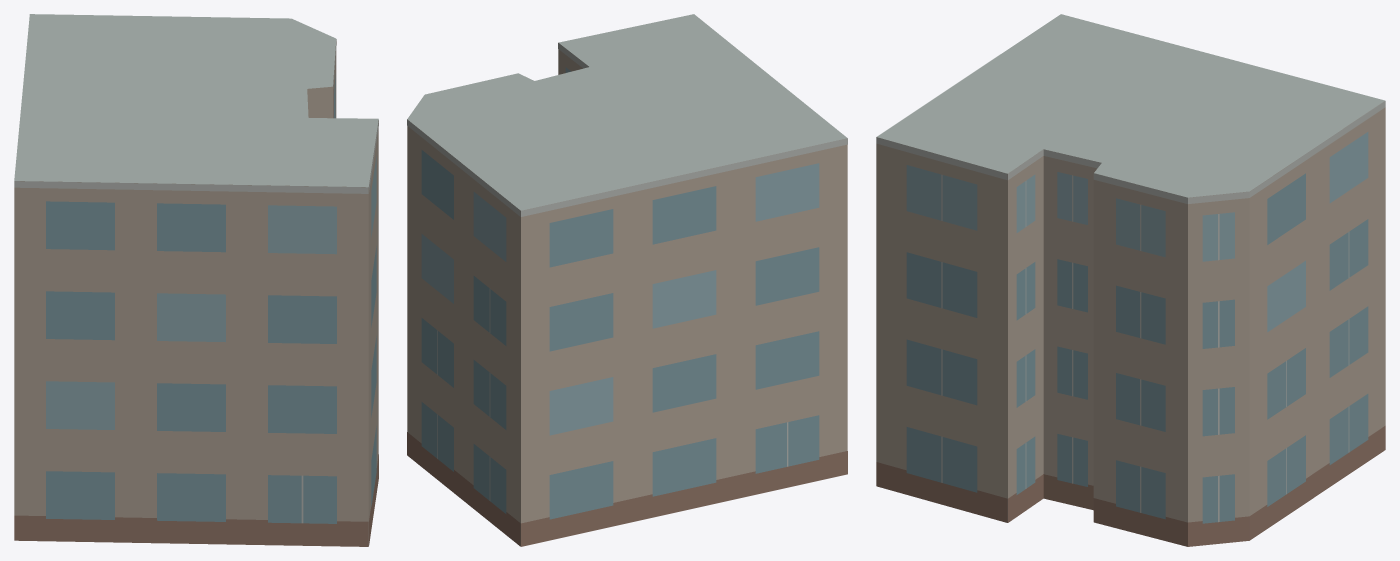
File: survey-upis-32692648.glb
The picture shows the model from 3 angles, left to right: view 1: azimuth 30°, elevation 25°; view 2: azimuth 150°, elevation 25°; view 3: azimuth 270°, elevation 25°; orthographic projection. The views are drawn at different scales.
Visible parts, largest first — view 1: survey-upis-32692648.tmp; view 2: survey-upis-32692648.tmp; view 3: survey-upis-32692648.tmp.
Part boxes in pixels (<box>): survey-upis-32692648.tmp: <box>14,14,378,546</box>; survey-upis-32692648.tmp: <box>407,14,847,546</box>; survey-upis-32692648.tmp: <box>876,14,1385,546</box>.
Size of the model in its own units: 14.61 by 12.95 by 17.12.
